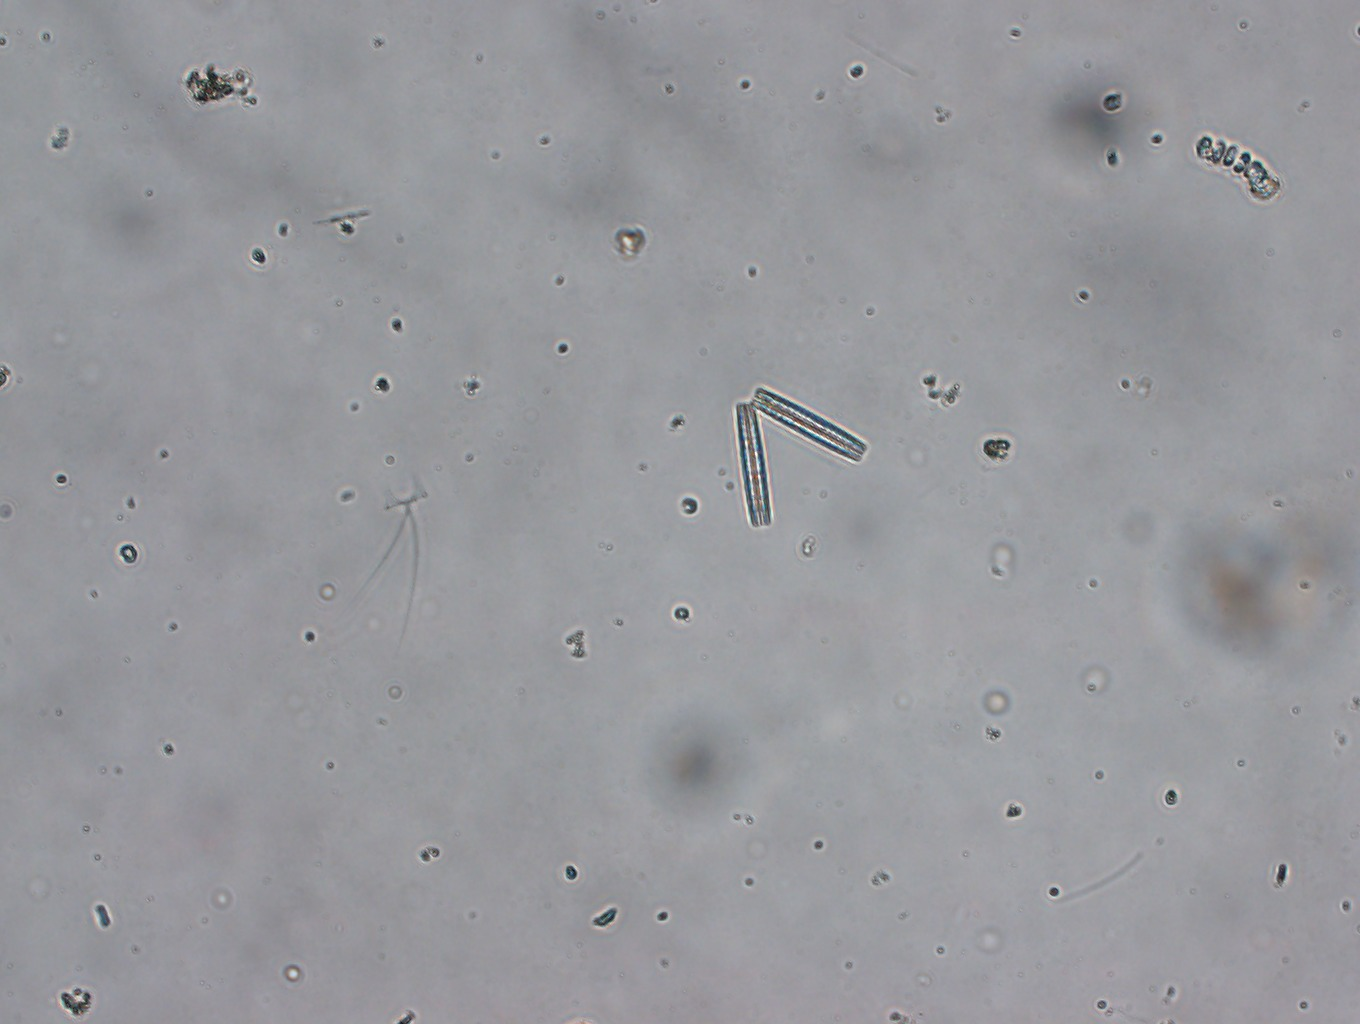skeletonema: (1194, 130, 1282, 207)
thalassionema nitzschioides: (733, 386, 868, 529)
